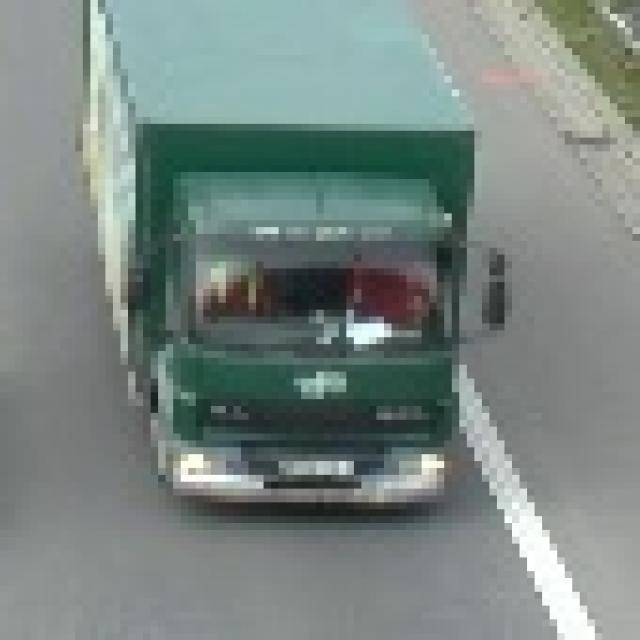Truck: (68, 0, 497, 509)
